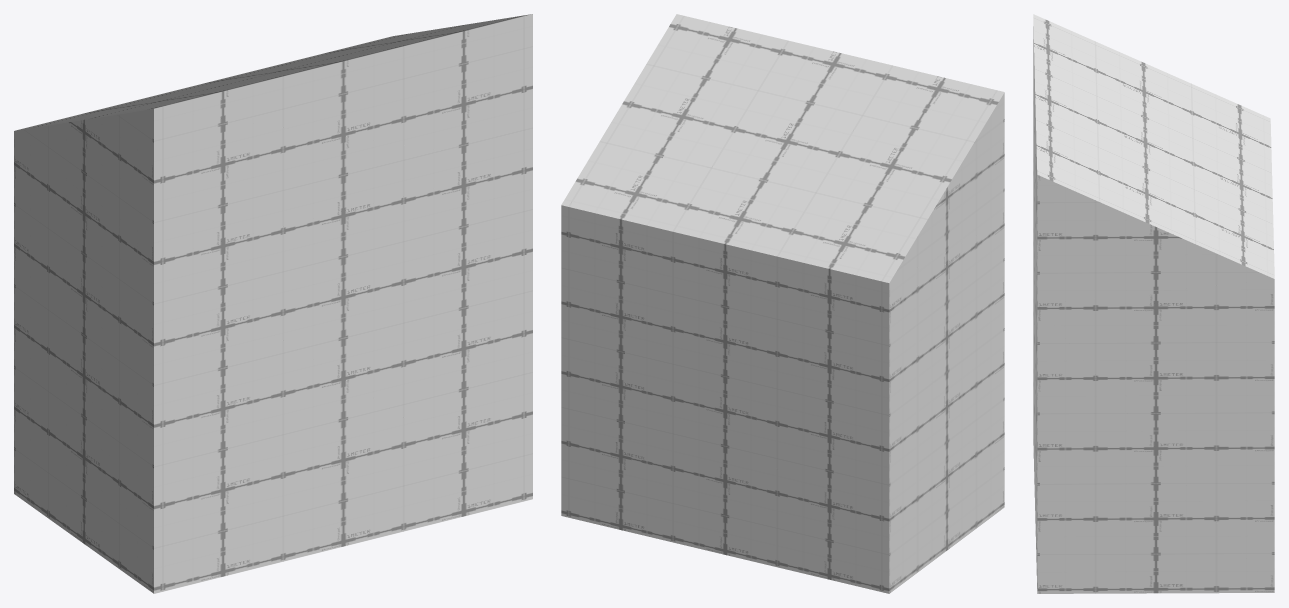
The model's file is PowerPlaceBot.fbx.
The picture shows the model from 3 angles, left to right: view 1: azimuth 30°, elevation 25°; view 2: azimuth 150°, elevation 25°; view 3: azimuth 270°, elevation 25°; orthographic projection. The views are drawn at different scales.
Visible parts, largest first — view 1: Base, Middle, Top; view 2: Base, Top, Middle; view 3: Base, Top, Middle.
Part boxes in pixels (x1,y1,x2,y2): Base: (14,159,532,593); Middle: (14,14,532,258); Top: (16,14,530,130); Base: (561,221,1004,593); Top: (561,14,1004,282); Middle: (561,93,1004,306); Base: (1033,156,1274,593); Top: (1033,14,1274,278); Middle: (1033,26,1274,304).
Size of the model in its own units: 101 by 122 by 63.74.
Materials: 1 (1 with a texture image).
